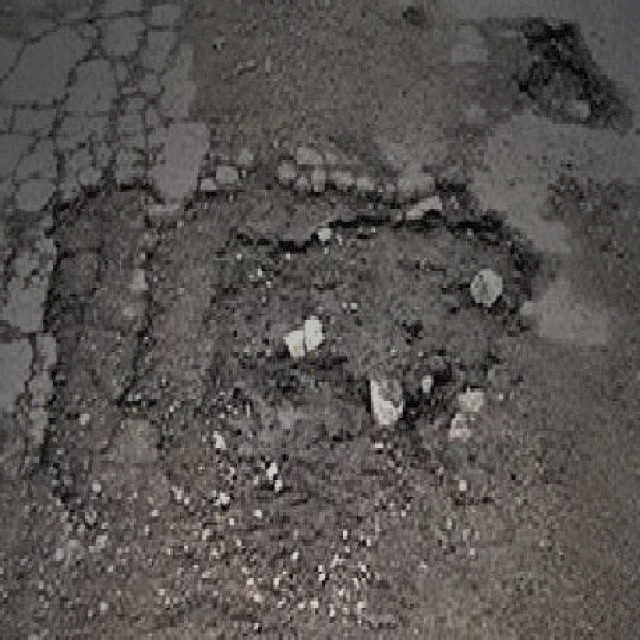pothole: (130, 162, 541, 585), (511, 13, 624, 130)
